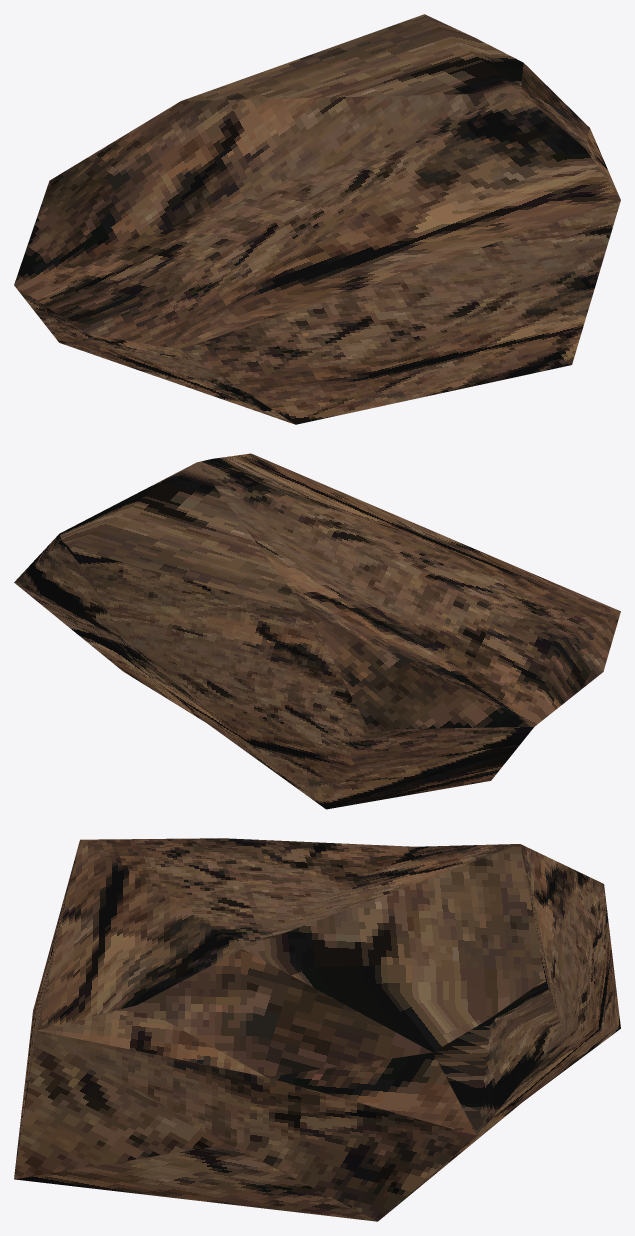
The model's file is stage-gran-p4-2.glb.
3 renders of one model, top to bottom at view 1: azimuth 30°, elevation 25°; view 2: azimuth 150°, elevation 25°; view 3: azimuth 270°, elevation 25°, orthographic. The views are drawn at different scales.
Bounding box in the file's own units: 19.6 × 6.96 × 14.59.
Materials: 1 (1 with a texture image).
